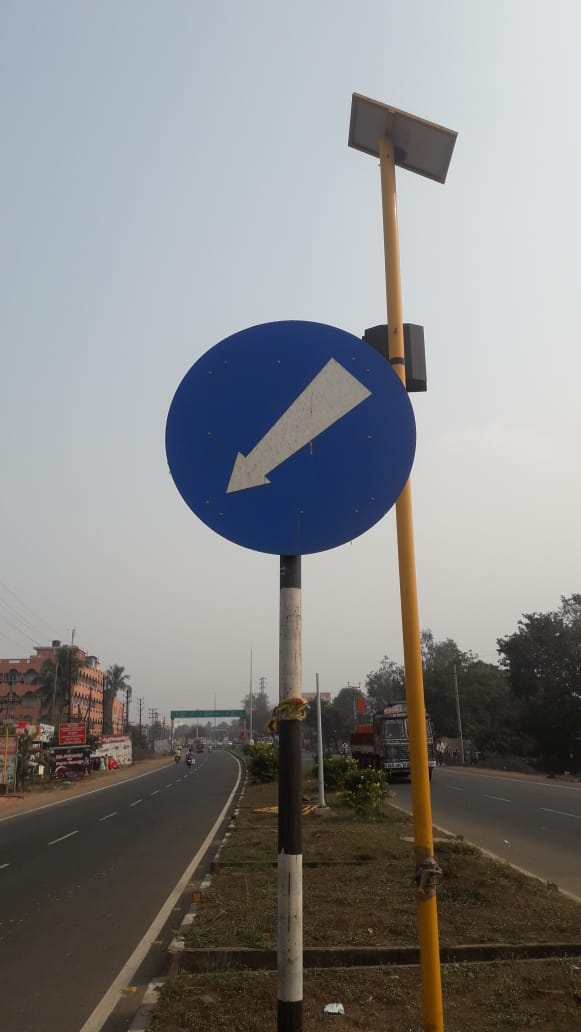go left: (103, 288, 425, 565)
